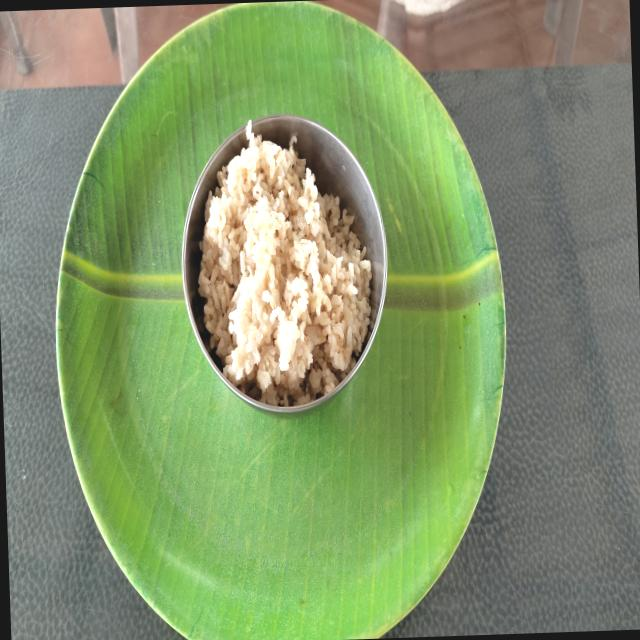brown-rice: (198, 124, 371, 407)
